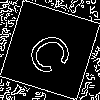C: (25, 25, 83, 79)
